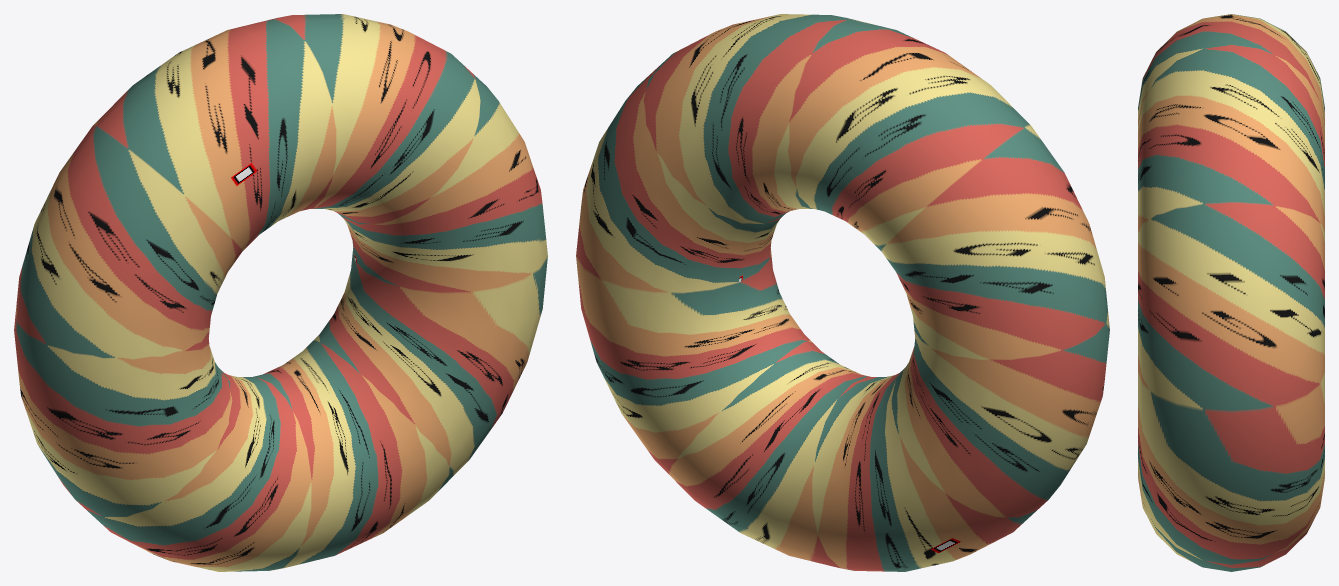
The model's file is uv_checkerboard_res_1024_iter_5_dehn_twist.glb.
3 renders of one model, left to right at view 1: azimuth 30°, elevation 25°; view 2: azimuth 150°, elevation 25°; view 3: azimuth 270°, elevation 25°, orthographic. The views are drawn at different scales.
Visible parts, largest first — view 1: Node; view 2: Node; view 3: Node.
Part boxes in pixels (box(x1,y1,x2,y2)): Node: box(14, 14, 547, 571); Node: box(576, 14, 1109, 571); Node: box(1138, 14, 1324, 571).
Size of the model in its own units: 3 by 2.98 by 1.
1 material, 1 textured.
